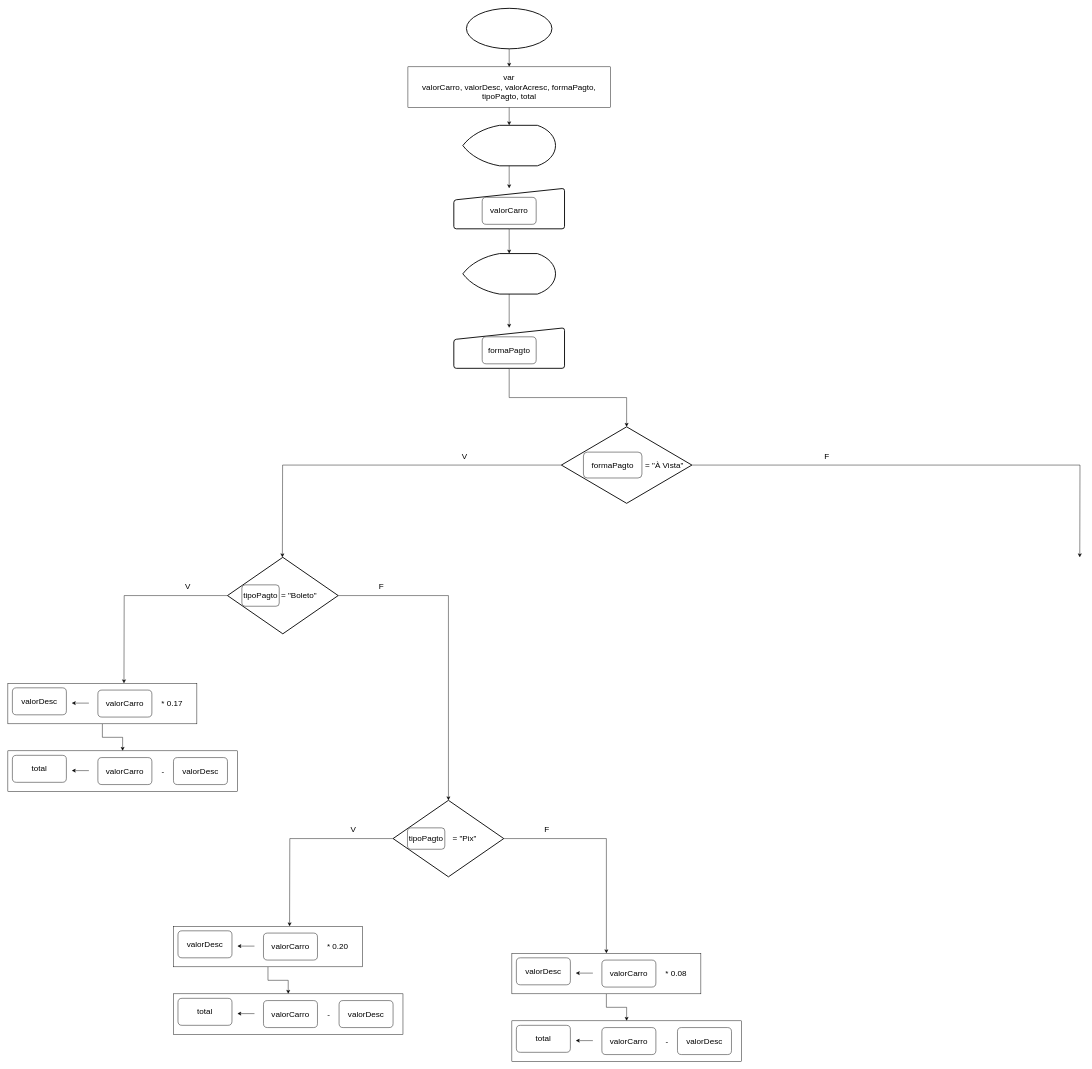
The diagram is 1092 pixels wide and 1069 high, and some of its shapes have lost their labels. Here are the shapes that lost their labels. From the top down, the box of each, then its label:
(466, 8, 552, 49): Início
(462, 125, 556, 166): Digite o valor do carro:
(462, 253, 556, 294): Escolha a forma de pagto:
